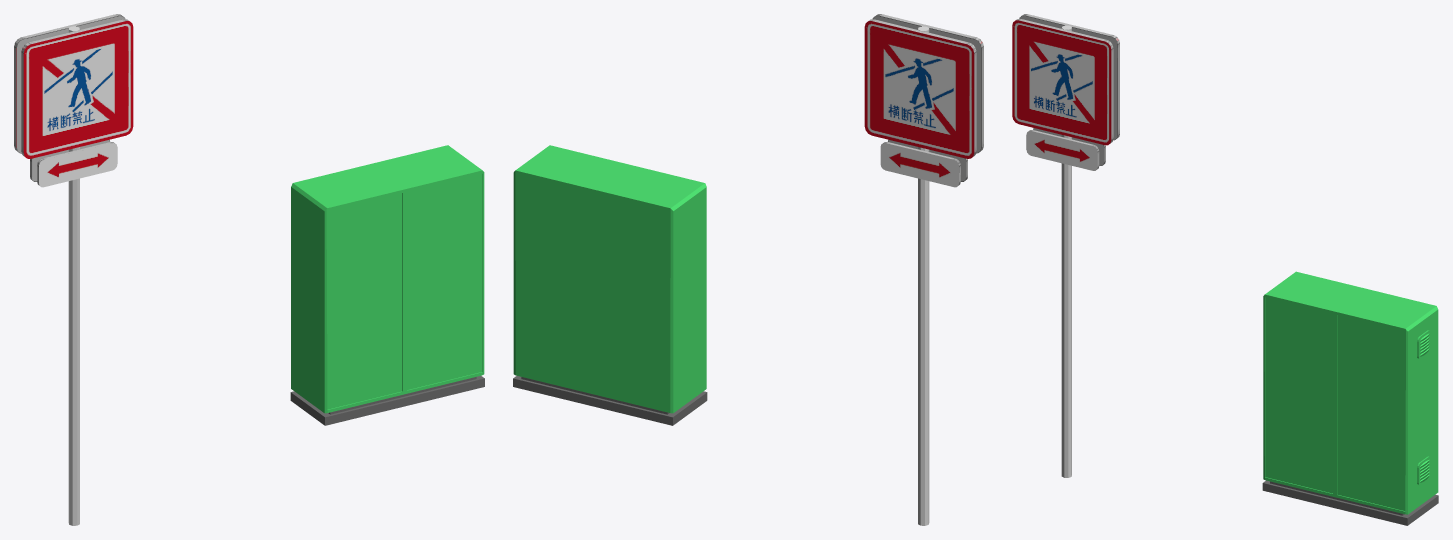
Rendered from komono.fbx.
3 views of the same model, side by side, from view 1: azimuth 30°, elevation 25°; view 2: azimuth 150°, elevation 25°; view 3: azimuth 330°, elevation 25° (orthographic). The views are drawn at different scales.
Parts seen in each view (by area): view 1: 立方体.037, 立方体.034, 円柱.012, 立方体.035; view 2: 立方体.037, 立方体.035, 円柱.012, 立方体.034; view 3: 立方体.037, 立方体.034, 円柱.012, 立方体.035.
Part boxes in pixels (bbox=[...]): 立方体.037: bbox=[290, 145, 484, 425]; 立方体.034: bbox=[21, 19, 133, 187]; 円柱.012: bbox=[68, 26, 79, 525]; 立方体.035: bbox=[14, 14, 125, 181]; 立方体.037: bbox=[513, 145, 707, 425]; 立方体.035: bbox=[864, 19, 976, 187]; 円柱.012: bbox=[918, 26, 929, 525]; 立方体.034: bbox=[872, 14, 983, 181]; 立方体.037: bbox=[1262, 271, 1438, 525]; 立方体.034: bbox=[1012, 19, 1113, 170]; 円柱.012: bbox=[1061, 25, 1071, 477]; 立方体.035: bbox=[1019, 14, 1119, 165].
Size of the model in its own units: 565 by 592 by 74.85.
